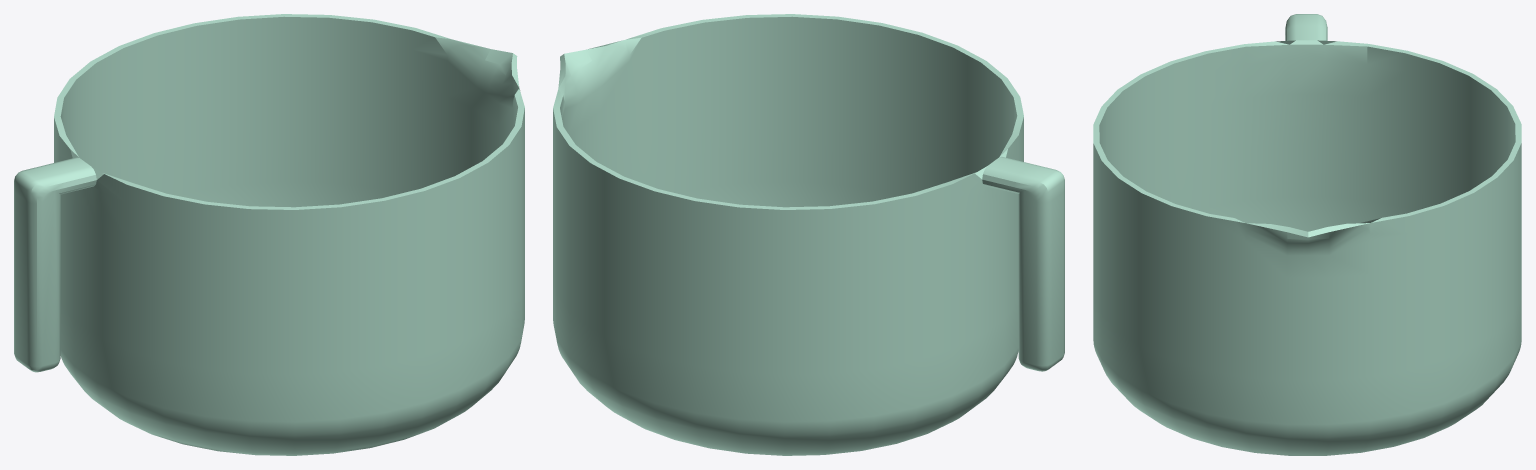
Rendered from Prefab_DoseurEmpty_Lily.fbx.
3 views of the same model, side by side, from view 1: azimuth 30°, elevation 25°; view 2: azimuth 150°, elevation 25°; view 3: azimuth 270°, elevation 25° (orthographic). The views are drawn at different scales.
Visible parts, largest first — view 1: Cube; view 2: Cube; view 3: Cube.
Part boxes in pixels (x1,y1,x2,y2): Cube: [14, 14, 524, 455]; Cube: [553, 14, 1064, 455]; Cube: [1093, 14, 1521, 455].
Bounding box in the file's own units: 15 × 8 × 12.
